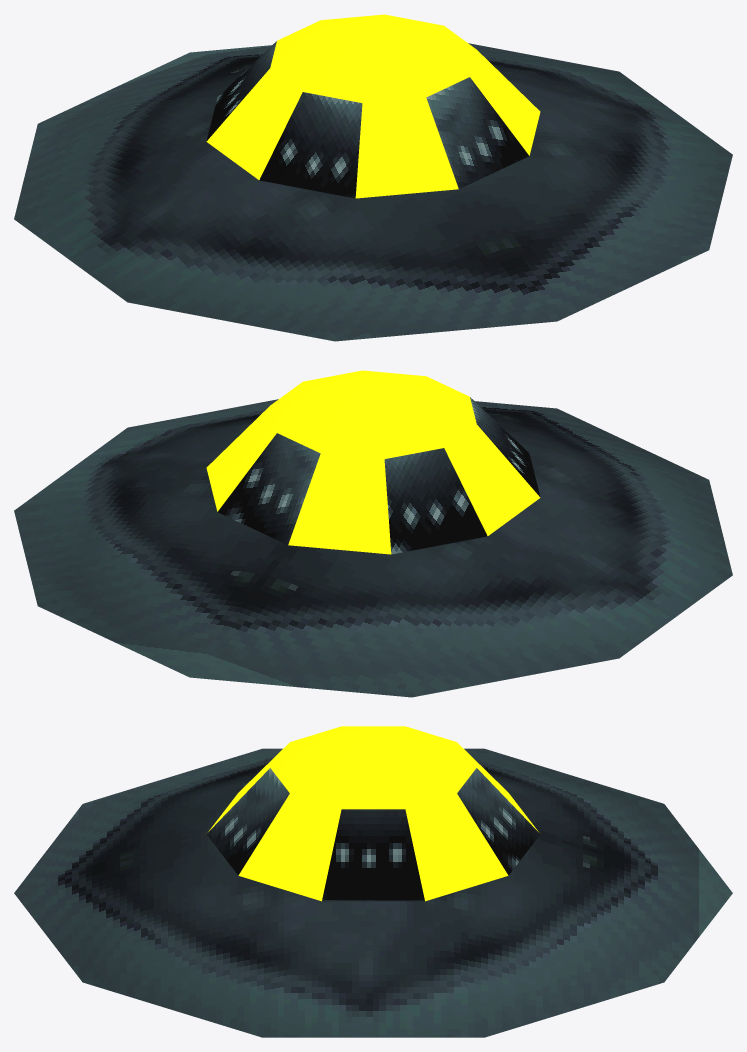
Rendered from ssoracle_3db.gltf.
3 renders of one model, top to bottom at view 1: azimuth 30°, elevation 25°; view 2: azimuth 150°, elevation 25°; view 3: azimuth 270°, elevation 25°, orthographic. The views are drawn at different scales.
Visible parts, largest first — view 1: ssoracle.3db; view 2: ssoracle.3db; view 3: ssoracle.3db.
Boxes of the visible parts, <box> form: ssoracle.3db: <box>14,14,732,341</box>; ssoracle.3db: <box>14,370,732,697</box>; ssoracle.3db: <box>14,726,732,1037</box>.
Size of the model in its own units: 6.56 by 2.57 by 6.9.
Materials: 2 (2 with a texture image).
